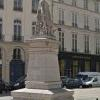Statue: (25, 0, 67, 52)
